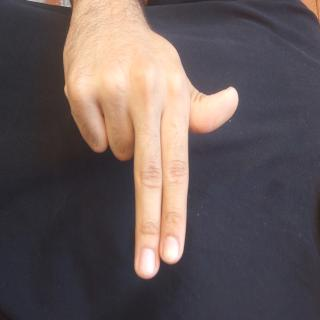GHAYN: (0, 96, 211, 320)
